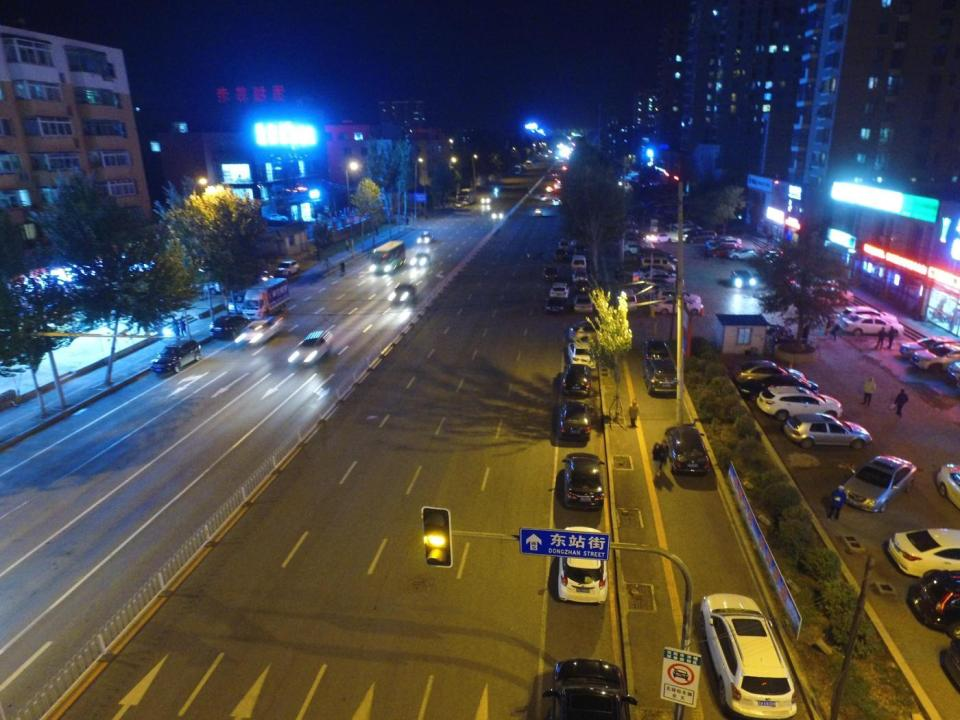bus: (369, 242, 405, 274), (456, 188, 477, 206)
car: (543, 656, 635, 720), (840, 455, 917, 513), (557, 527, 607, 606), (888, 526, 960, 578), (785, 412, 871, 451), (754, 384, 843, 418), (912, 575, 960, 637), (665, 424, 713, 478), (732, 361, 806, 392), (563, 450, 603, 506), (151, 340, 201, 372), (843, 312, 904, 338), (838, 306, 898, 332), (289, 332, 331, 363), (642, 360, 678, 395), (559, 403, 592, 441), (902, 335, 957, 356), (239, 318, 283, 344), (653, 296, 705, 318), (912, 346, 960, 368), (643, 252, 682, 275), (208, 315, 242, 338), (566, 364, 590, 395), (809, 288, 855, 304), (568, 340, 594, 367), (188, 278, 229, 295), (644, 341, 672, 365), (729, 267, 757, 289), (571, 320, 600, 341), (388, 283, 416, 304), (643, 266, 680, 281), (706, 234, 741, 249), (544, 294, 566, 314), (622, 241, 653, 255), (731, 245, 758, 261), (274, 261, 300, 277), (576, 294, 595, 314), (685, 229, 714, 241), (710, 244, 740, 255), (550, 280, 570, 296), (410, 252, 431, 266), (574, 278, 591, 294), (645, 233, 670, 243), (544, 262, 557, 280), (417, 230, 433, 244), (671, 218, 693, 228), (574, 268, 588, 281), (266, 214, 288, 221), (554, 249, 567, 260), (511, 163, 522, 175), (571, 236, 583, 246), (574, 245, 586, 254), (492, 210, 503, 219), (480, 196, 492, 204), (552, 196, 560, 206), (525, 160, 534, 168), (534, 207, 542, 214), (546, 186, 553, 192), (454, 202, 462, 207), (556, 183, 562, 189), (542, 195, 547, 202)
truck: (241, 278, 290, 319)
van: (702, 594, 797, 717), (616, 288, 637, 312), (228, 288, 248, 312), (572, 254, 587, 270), (558, 239, 569, 253)
